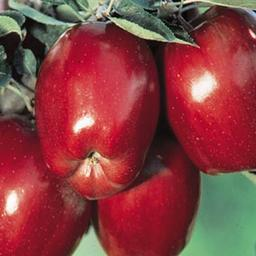apple: (33, 20, 159, 198), (161, 8, 256, 176), (1, 114, 90, 256), (92, 149, 201, 254)
